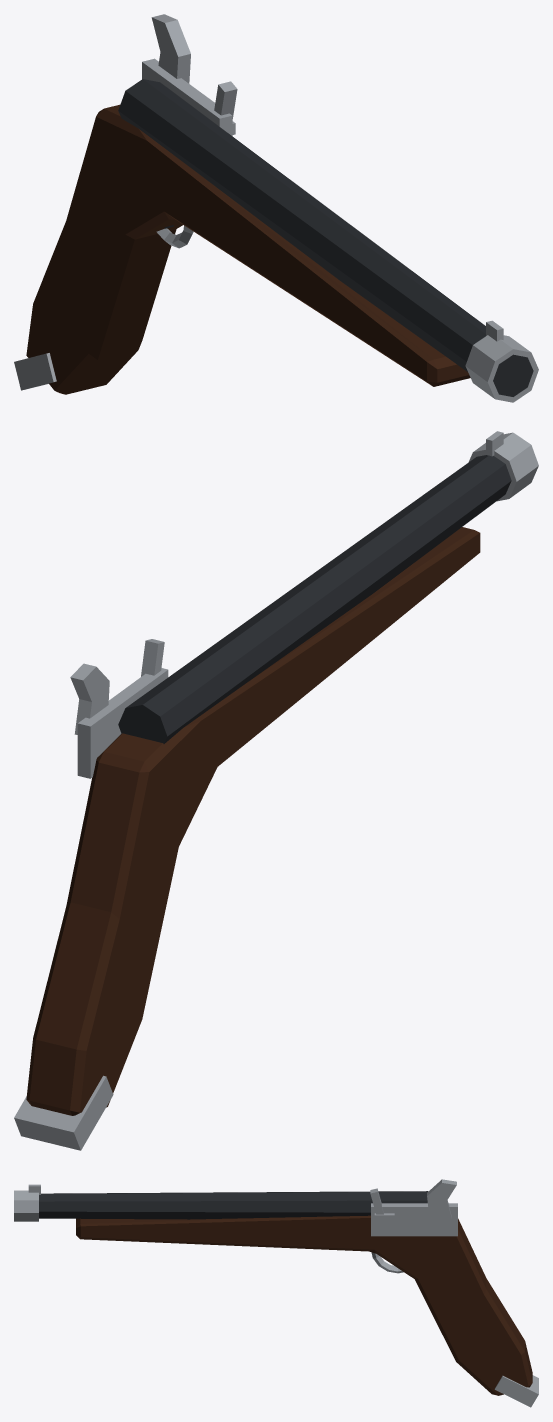
Rendered from duelling.glb.
3 views of the same model, one above another, from view 1: azimuth 30°, elevation 25°; view 2: azimuth 150°, elevation 25°; view 3: azimuth 270°, elevation 25° (orthographic). The views are drawn at different scales.
Visible parts, largest first — view 1: duelling; view 2: duelling; view 3: duelling.
Boxes of the visible parts, x1,y1,x2,y2 form: duelling: (14, 14, 538, 402); duelling: (14, 431, 538, 1150); duelling: (14, 1179, 538, 1407).
Size of the model in its own units: 0.036 by 0.1833 by 0.38.
